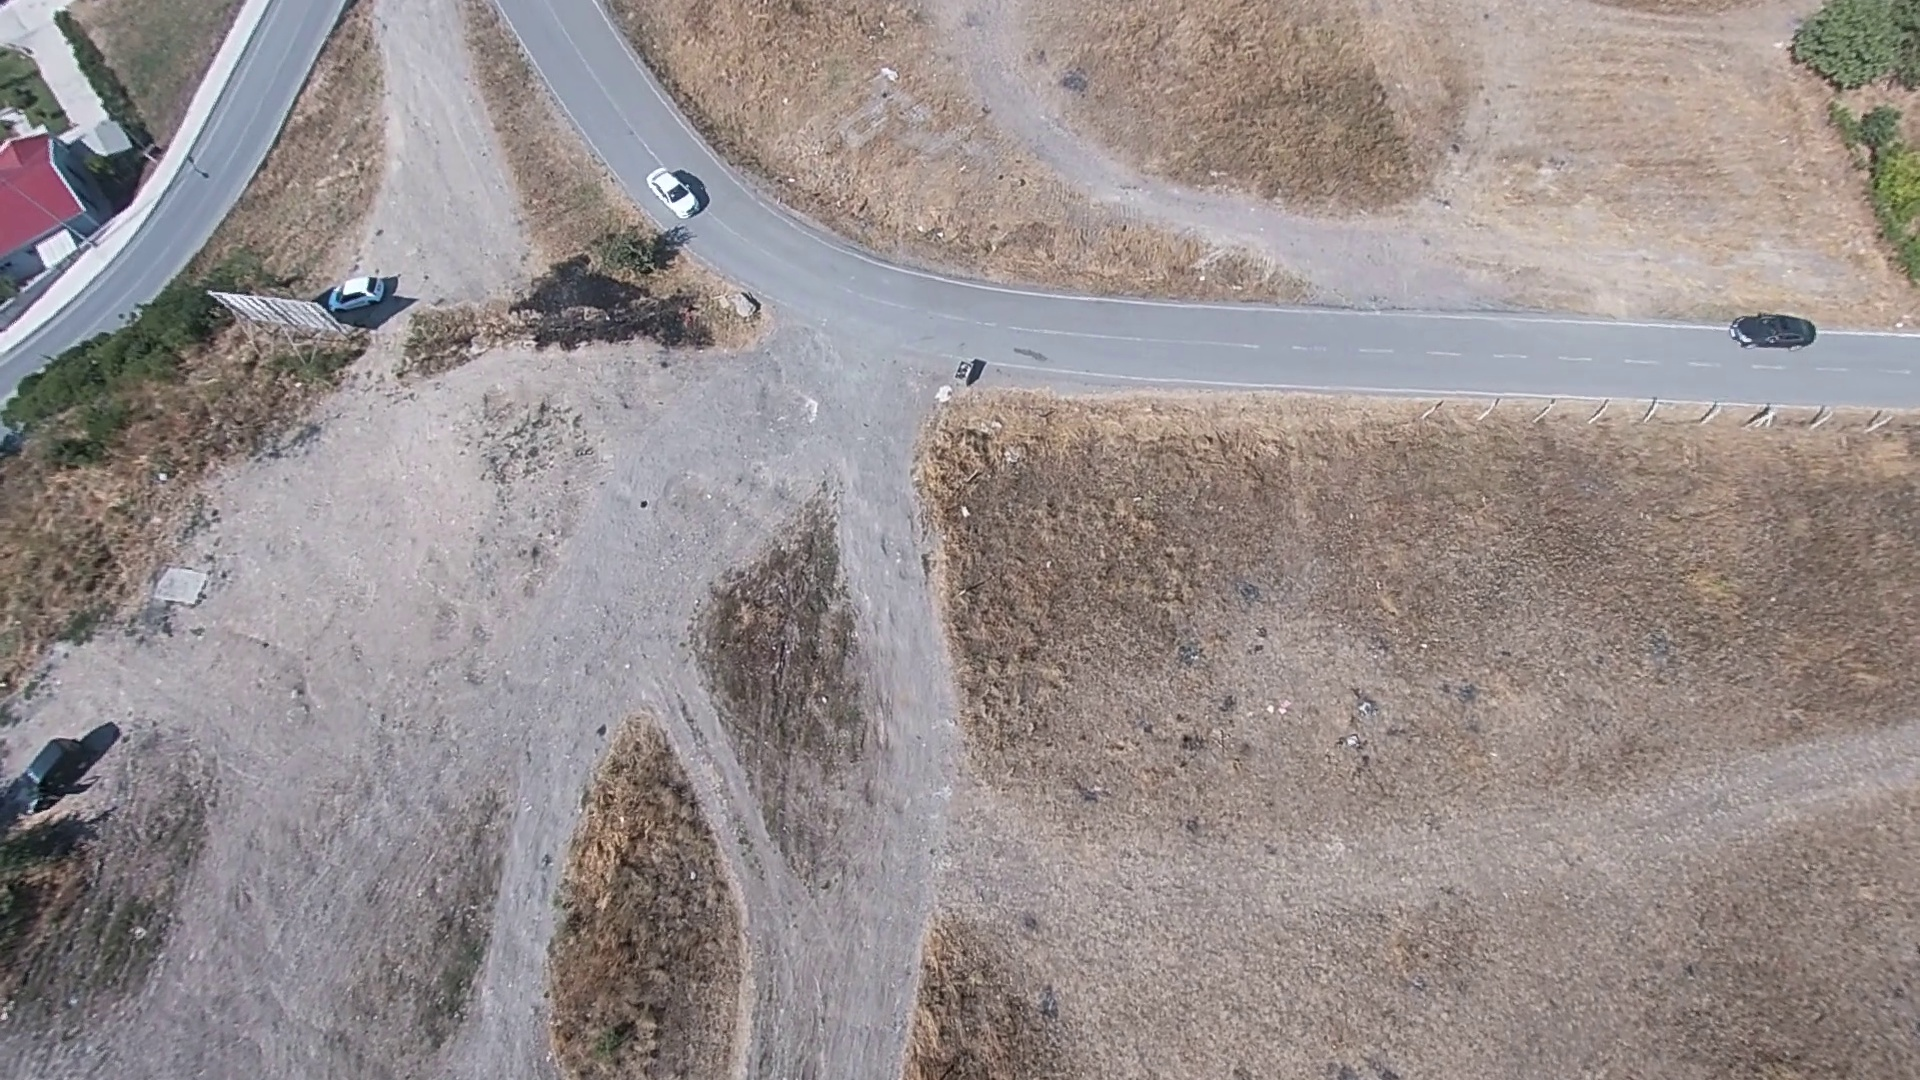araba: (1, 731, 94, 825), (645, 164, 705, 219), (316, 268, 390, 310), (1733, 313, 1825, 344)
